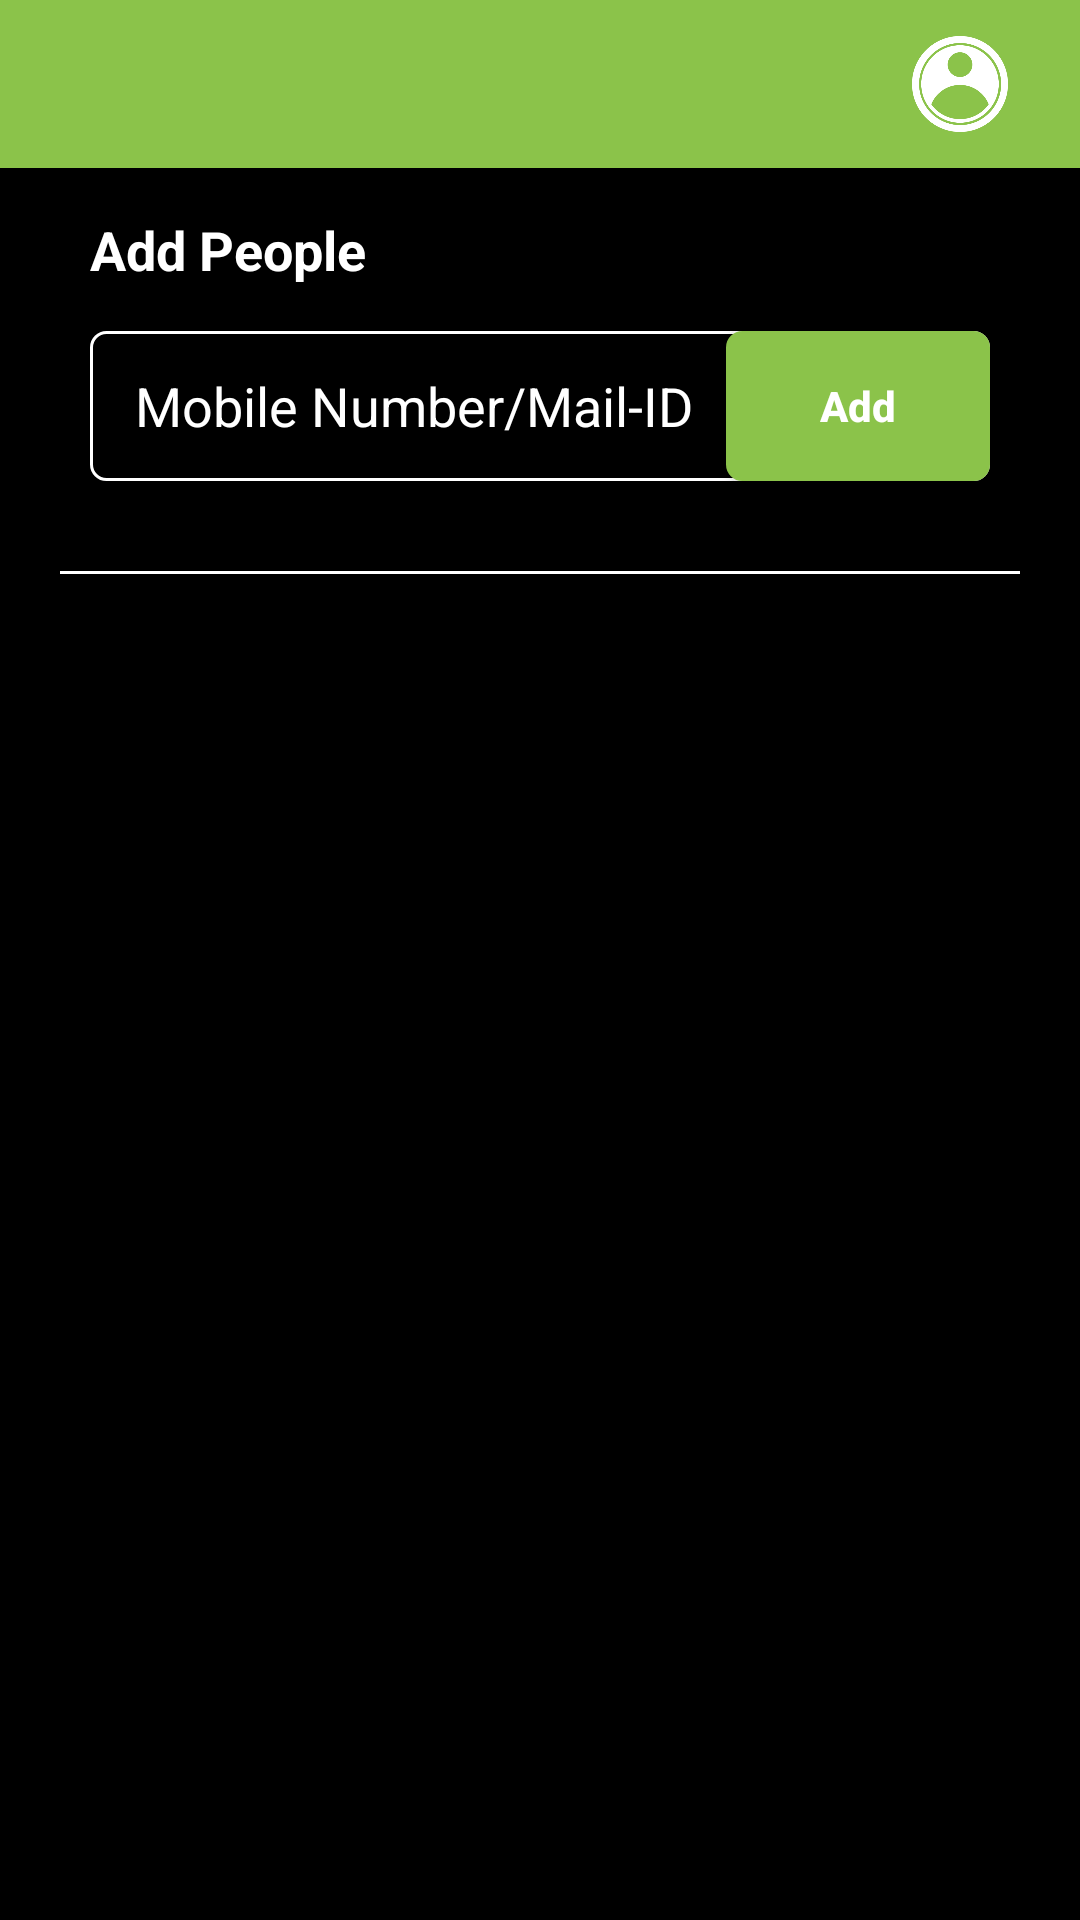

Icons on this 1080×1920 Android screen, each with the point to tap as point (x, y):
userima: point (960, 84)
